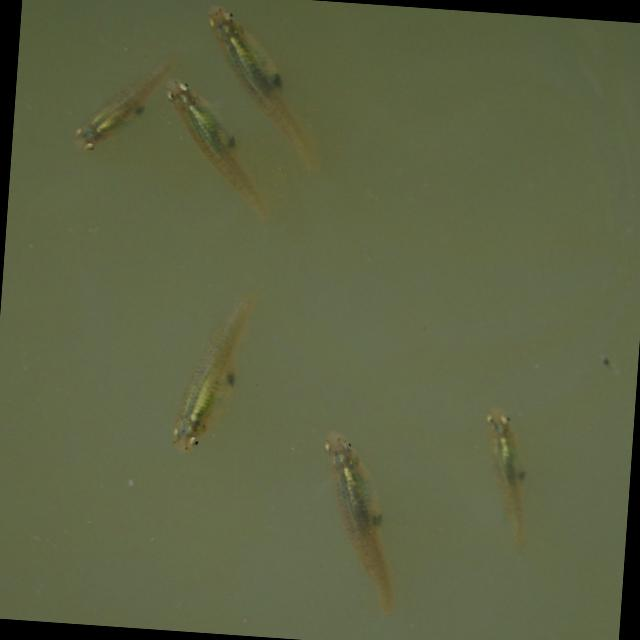Sivrisinek Baligi: (194, 8, 330, 172), (309, 430, 409, 616), (158, 80, 282, 226), (165, 283, 257, 452), (70, 41, 178, 158), (472, 405, 540, 558)
